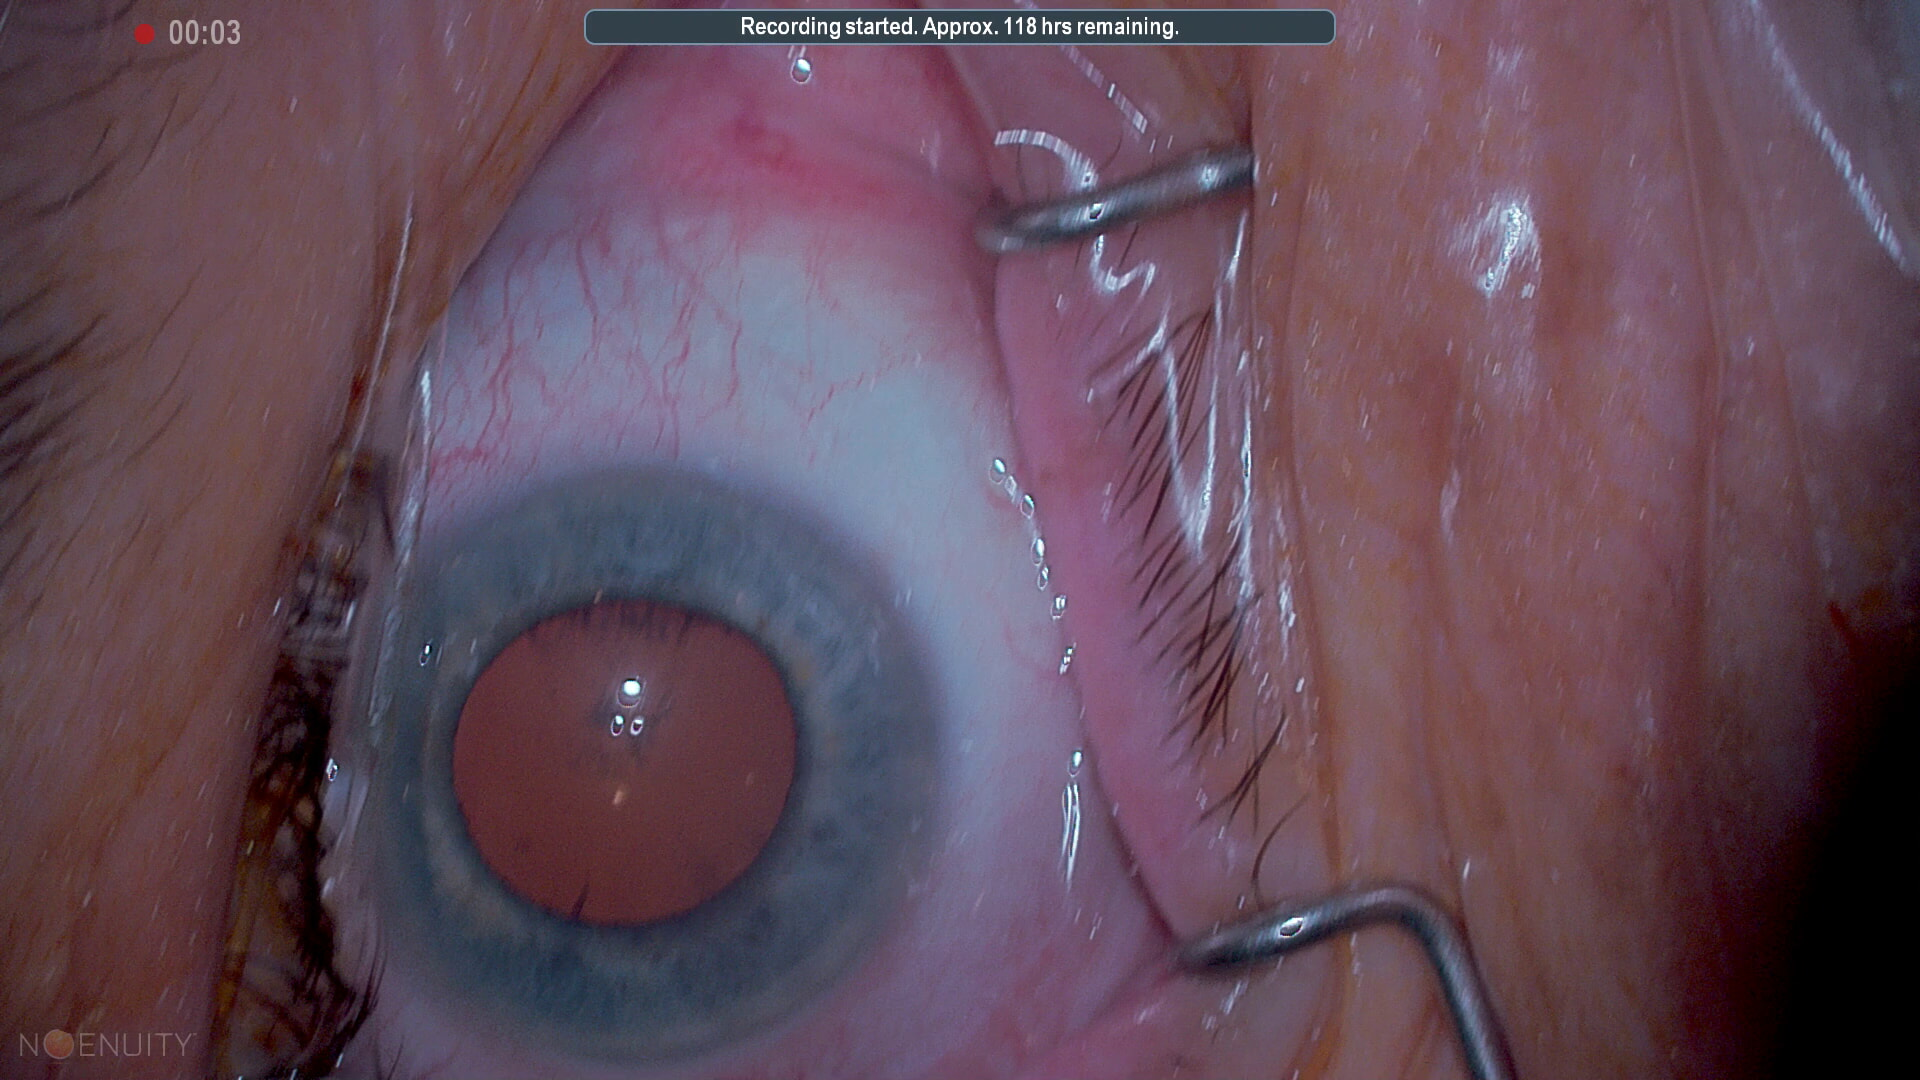iris: (381, 478, 938, 1056)
pupil: (450, 599, 801, 924)
